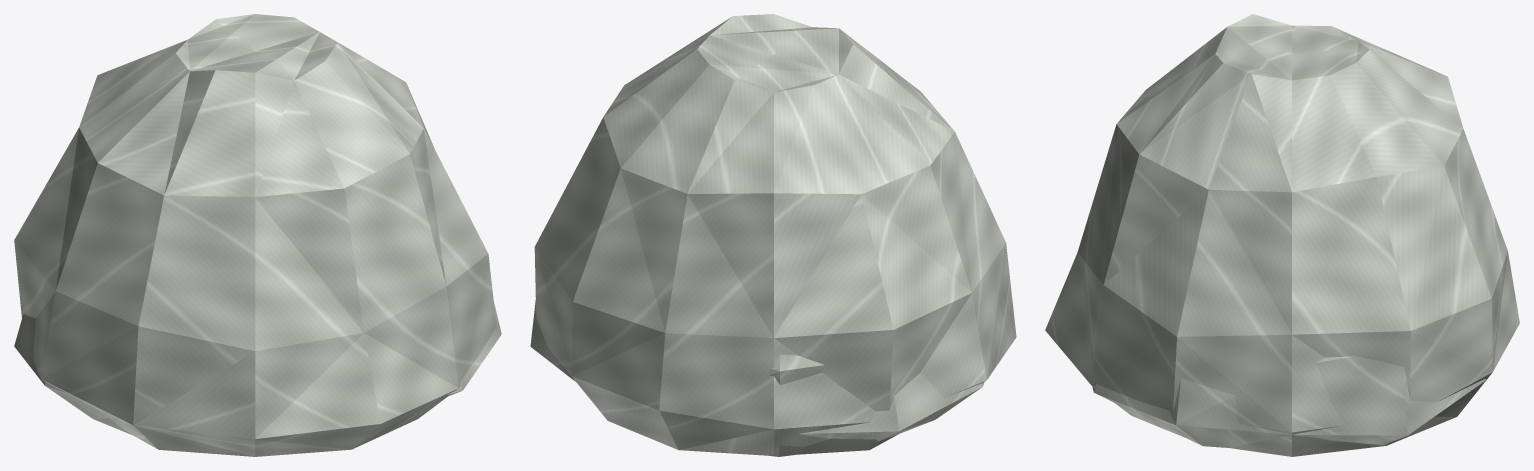
Rendered from field-boulders-v01.glb.
3 views of the same model, side by side, from view 1: azimuth 30°, elevation 25°; view 2: azimuth 150°, elevation 25°; view 3: azimuth 270°, elevation 25° (orthographic).
Parts seen in each view (by area): view 1: field_rock_0, field_rock_1; view 2: field_rock_0, field_rock_1; view 3: field_rock_0, field_rock_1.
Part boxes in pixels (x1,y1,x2,y2): field_rock_0: [14, 14, 496, 456]; field_rock_1: [14, 303, 501, 434]; field_rock_0: [534, 14, 1016, 455]; field_rock_1: [530, 299, 984, 456]; field_rock_0: [1045, 14, 1519, 456]; field_rock_1: [1092, 356, 1485, 447].
Bounding box in the file's own units: 0.9467 × 0.72 × 0.9276.
Materials: 1 (1 with a texture image).
